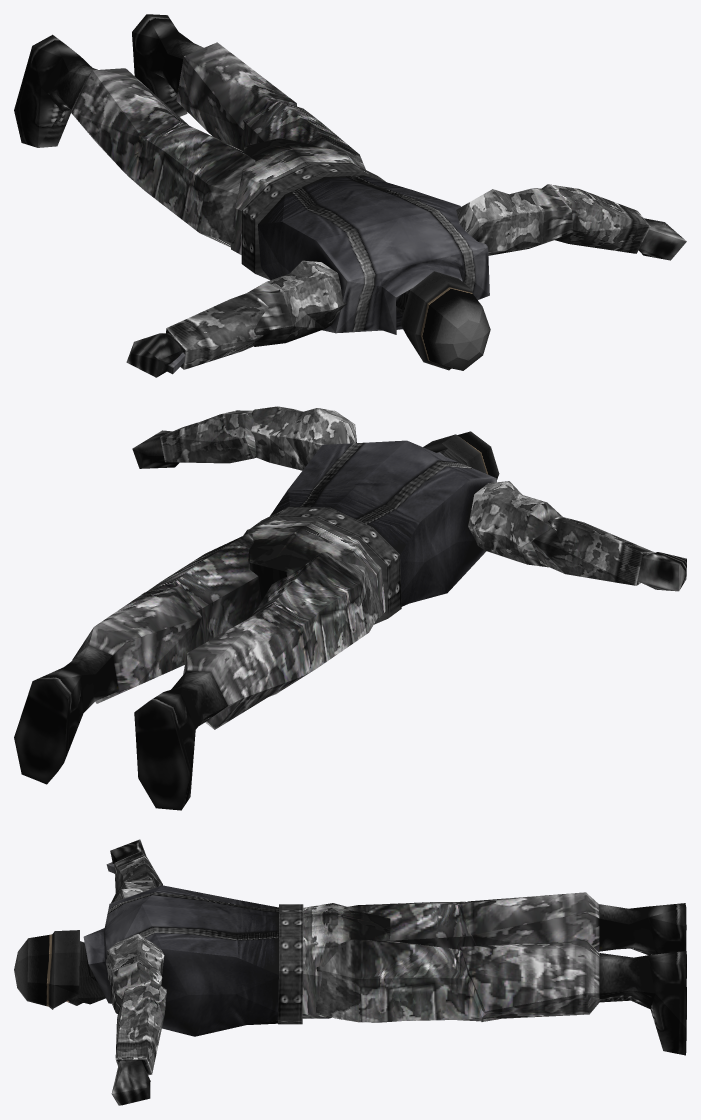
File: swatsoldierTB_wtf.obj
3 views of the same model, one above another, from view 1: azimuth 30°, elevation 25°; view 2: azimuth 150°, elevation 25°; view 3: azimuth 270°, elevation 25° (orthographic). The views are drawn at different scales.
Visible parts, largest first — view 1: group3, group11, group12, group9, group6, group17, group7, group14, group13, group18, group1, group2 (+4 smaller); view 2: group3, group12, group9, group11, group8, group13, group10, group1, group14, group7, group17, group18 (+4 smaller); view 3: group3, group9, group8, group12, group1, group6, group11, group18, group10, group2, group17, group13 (+5 smaller).
Part boxes in pixels (box(x1,y1,x2,y2)): group3: box(257, 175, 489, 334); group11: box(127, 122, 255, 247); group12: box(41, 56, 188, 174); group9: box(150, 32, 296, 147); group6: box(400, 271, 490, 370); group17: box(456, 188, 573, 255); group7: box(247, 260, 346, 346); group14: box(166, 291, 268, 369); group13: box(14, 34, 80, 147); group18: box(542, 184, 650, 253); group1: box(231, 138, 362, 254); group2: box(241, 163, 385, 280); group3: box(270, 440, 496, 606); group12: box(163, 604, 301, 729); group9: box(64, 584, 201, 712); group11: box(248, 552, 383, 690); group8: box(146, 534, 261, 649); group13: box(134, 692, 195, 810); group10: box(14, 667, 83, 784); group1: box(243, 520, 385, 618); group14: box(531, 516, 654, 585); group7: box(468, 481, 562, 567); group17: box(251, 406, 356, 470); group18: box(160, 410, 256, 463); group3: box(83, 885, 278, 1036); group9: box(460, 940, 655, 1021); group8: box(316, 939, 486, 1022); group12: box(460, 892, 655, 955); group1: box(302, 903, 390, 1018); group6: box(14, 930, 79, 1009); group11: box(344, 901, 476, 949); group18: box(115, 979, 166, 1075); group10: box(648, 951, 686, 1055); group2: box(277, 904, 303, 1024); group17: box(107, 933, 164, 1013); group13: box(648, 903, 686, 954).
Size of the model in its own units: 556 by 137 by 660.
